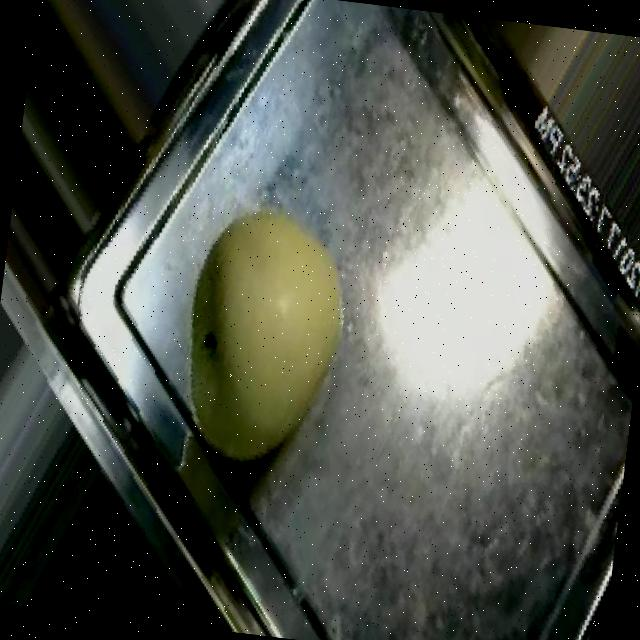apple: (108, 120, 434, 538)
